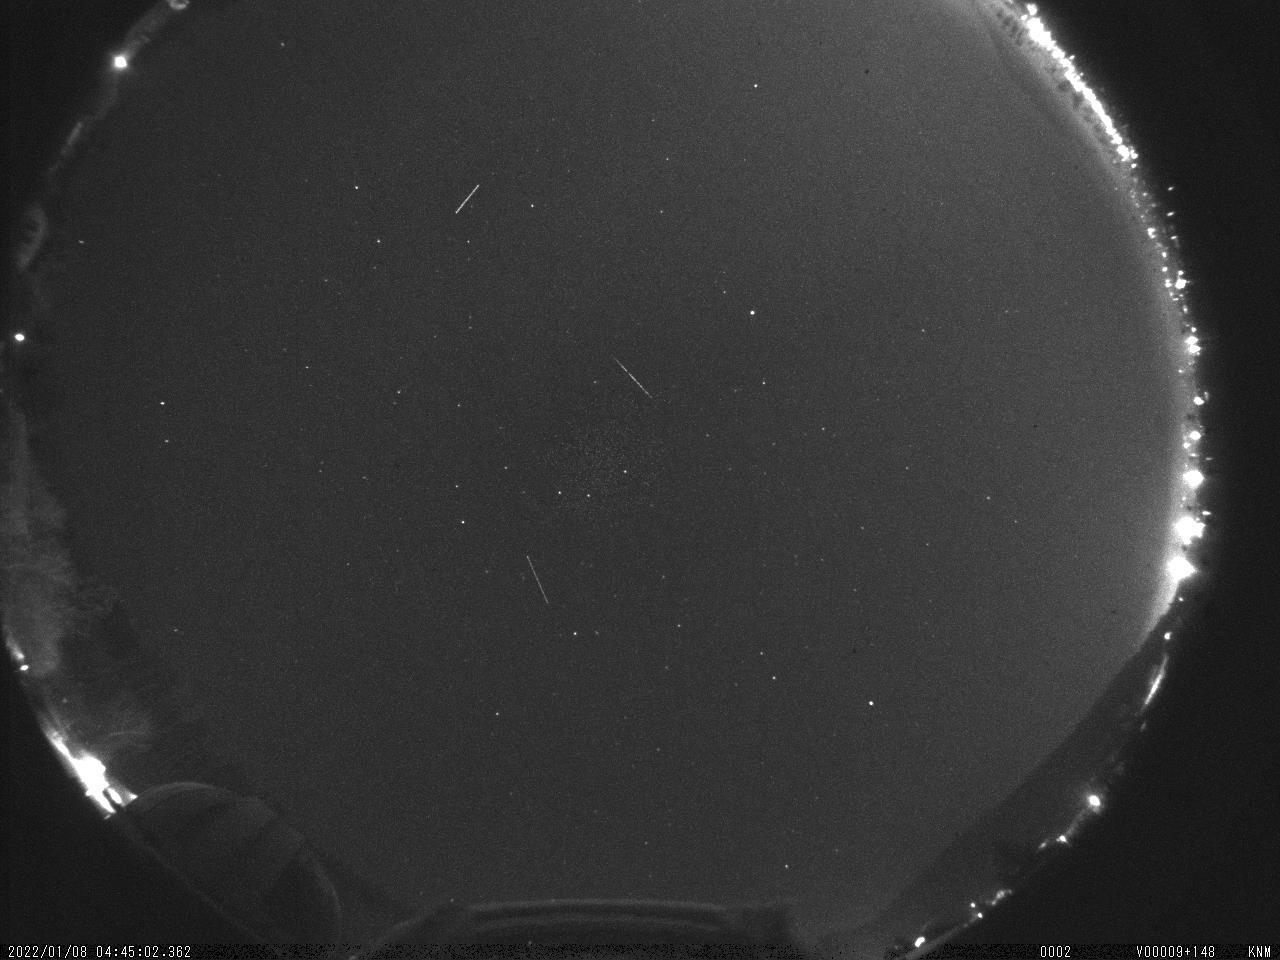Meteor: (608, 349, 660, 406), (525, 550, 553, 612)
